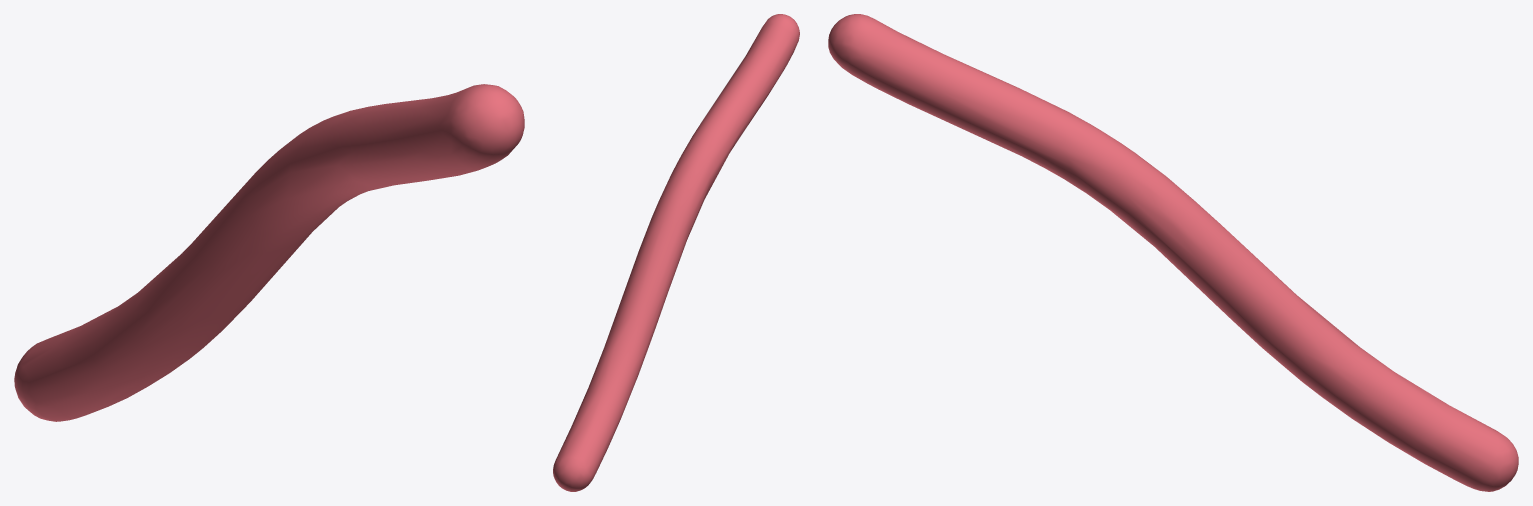
File: fma50769_fj4705.glb
3 views of the same model, side by side, from view 1: azimuth 30°, elevation 25°; view 2: azimuth 150°, elevation 25°; view 3: azimuth 270°, elevation 25° (orthographic). The views are drawn at different scales.
Parts seen in each view (by area): view 1: FMA50769_FJ4705; view 2: FMA50769_FJ4705; view 3: FMA50769_FJ4705.
Boxes of the visible parts, x1,y1,x2,y2 form: FMA50769_FJ4705: (14, 84, 524, 421); FMA50769_FJ4705: (553, 14, 799, 491); FMA50769_FJ4705: (828, 14, 1518, 491).
Size of the model in its own units: 0.00473 by 0.0319 by 0.042.
